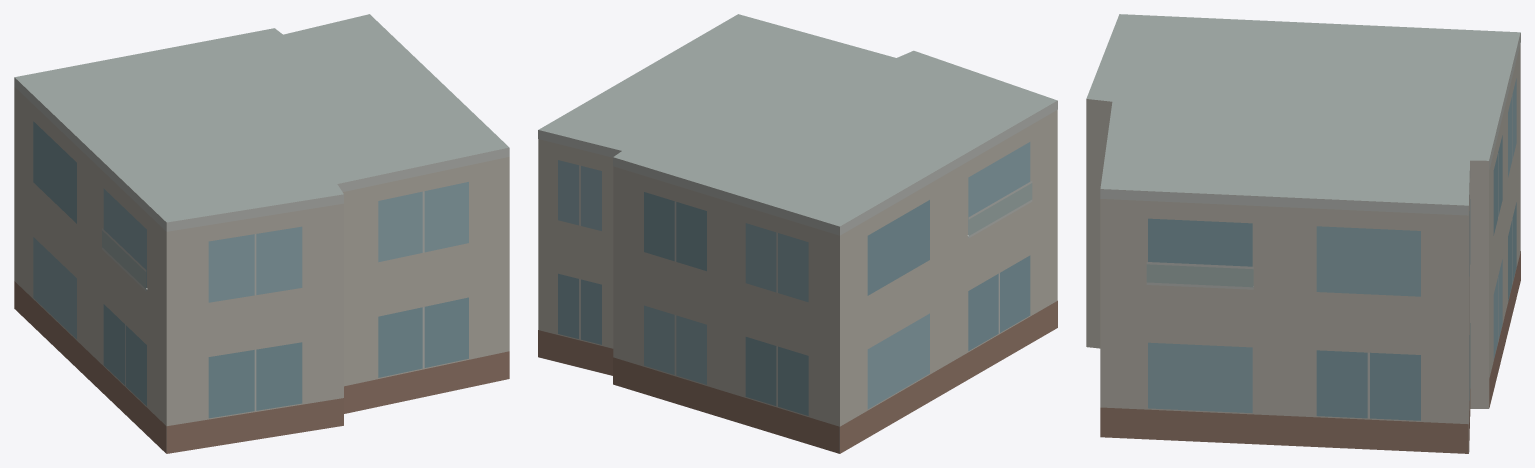
File: survey-upis-32660004.glb
3 views of the same model, side by side, from view 1: azimuth 30°, elevation 25°; view 2: azimuth 150°, elevation 25°; view 3: azimuth 270°, elevation 25° (orthographic). The views are drawn at different scales.
Parts seen in each view (by area): view 1: survey-upis-32660004.tmp; view 2: survey-upis-32660004.tmp; view 3: survey-upis-32660004.tmp.
Part boxes in pixels (<box>): survey-upis-32660004.tmp: <box>14,14,509,453</box>; survey-upis-32660004.tmp: <box>538,14,1057,453</box>; survey-upis-32660004.tmp: <box>1086,14,1520,453</box>.
Size of the model in its own units: 10.11 by 6.1 by 9.69.
